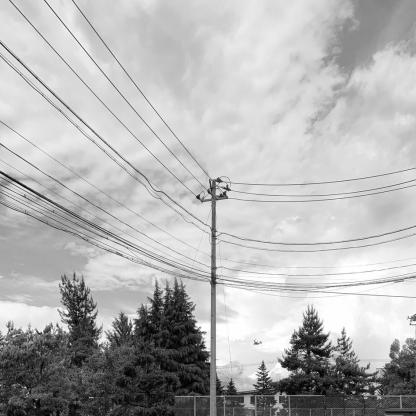V22: (253, 339, 263, 346)
